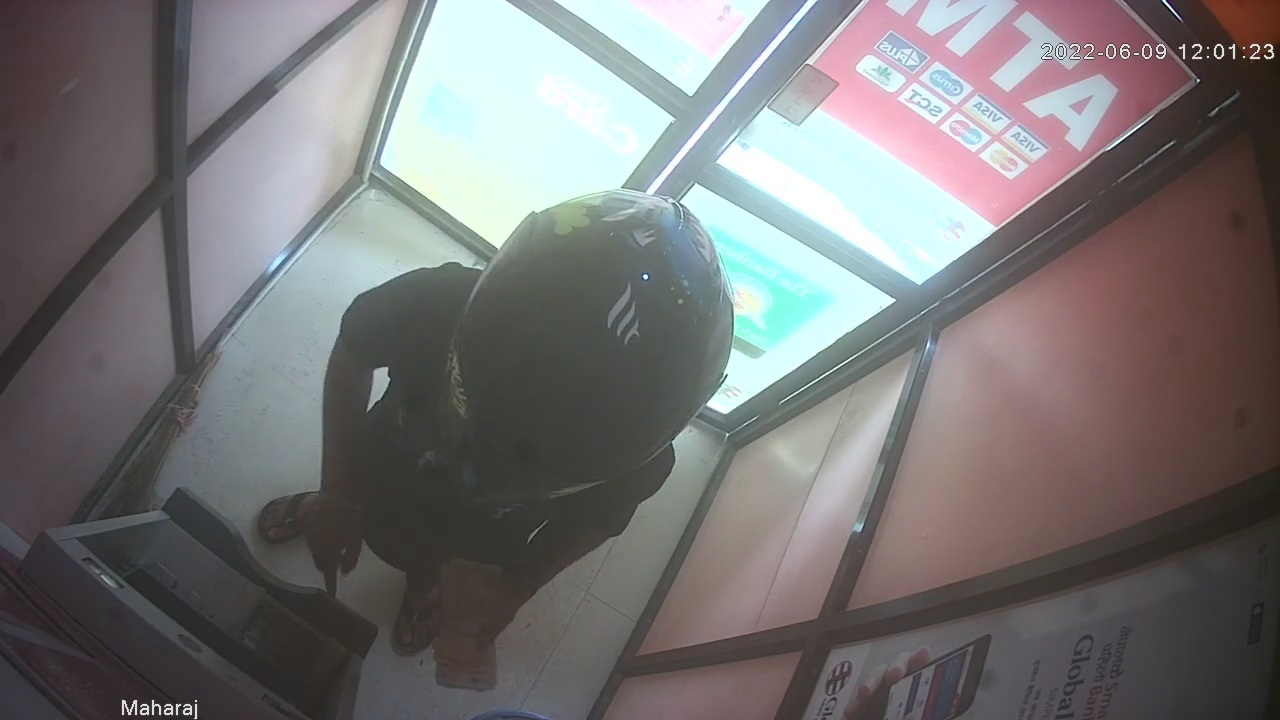helmet: (440, 189, 733, 506)
person: (256, 188, 735, 692)
